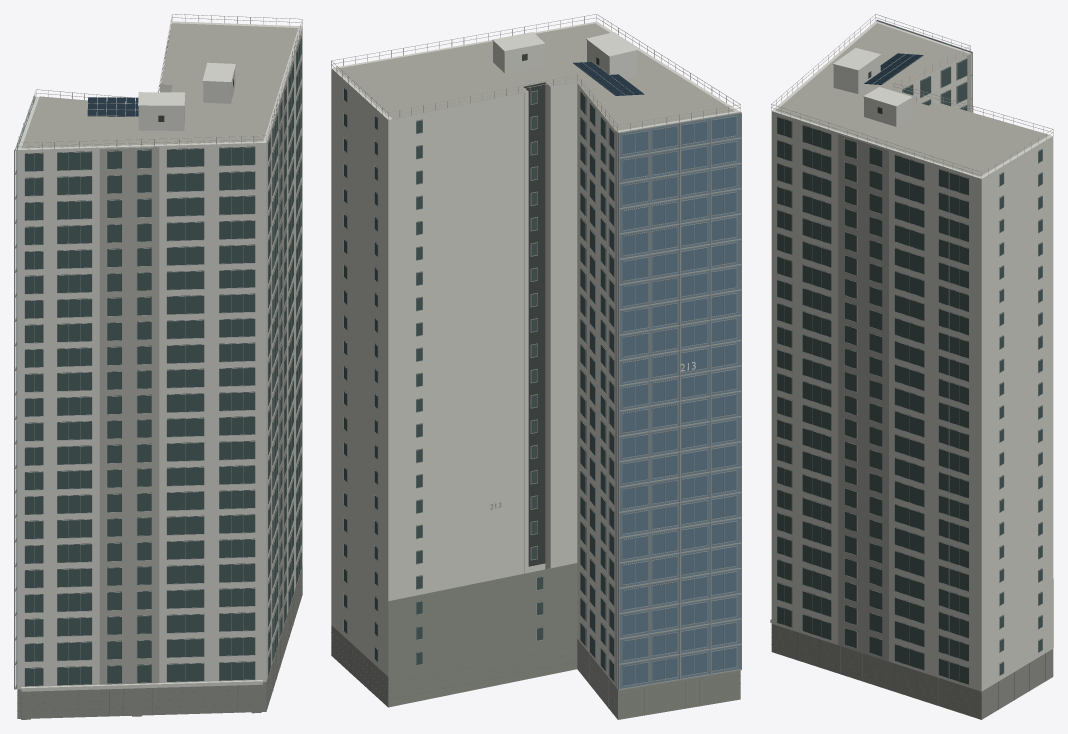
The model's file is bespoke-maple-xi-213-corrected.glb.
3 views of the same model, side by side, from view 1: azimuth 30°, elevation 25°; view 2: azimuth 150°, elevation 25°; view 3: azimuth 270°, elevation 25° (orthographic). The views are drawn at different scales.
Parts seen in each view (by area): view 1: e1_glass, 213_individual_L_body_with_core_recess, e0_window_frames, e0_pale_warm_infill, 213_exposed_roof_surface, 213_obscured_ground_storey_conservative_mass, e0_recesses, 213_low_perimeter_rails, 213_SW_visible_PV_modules, e0_ground_stone_joints, 213_NW_bluegray_numbered_end; view 2: 213_individual_L_body_with_core_recess, e0_glass, e0_window_frames, 213_obscured_ground_storey_conservative_mass, 213_NW_bluegray_numbered_end, 213_exposed_roof_surface, e1_glass, e0_recesses, 213_low_perimeter_rails, e0_pale_warm_infill, 213_SW_visible_PV_modules, e0_ground_stone_joints; view 3: 213_individual_L_body_with_core_recess, e1_glass, e0_pale_warm_infill, e0_window_frames, 213_exposed_roof_surface, 213_obscured_ground_storey_conservative_mass, e0_recesses, 213_low_perimeter_rails, 213_SW_visible_PV_modules, e0_ground_stone_joints.
Part boxes in pixels (<box>): e1_glass: <box>25,38,301,686</box>; 213_individual_L_body_with_core_recess: <box>17,21,302,691</box>; e0_window_frames: <box>14,36,301,689</box>; e0_pale_warm_infill: <box>17,79,286,688</box>; 213_exposed_roof_surface: <box>21,23,298,148</box>; 213_obscured_ground_storey_conservative_mass: <box>17,566,302,719</box>; e0_recesses: <box>25,36,301,682</box>; 213_low_perimeter_rails: <box>17,14,302,149</box>; 213_SW_visible_PV_modules: <box>87,97,138,116</box>; e0_ground_stone_joints: <box>17,573,302,716</box>; 213_NW_bluegray_numbered_end: <box>16,96,35,689</box>; 213_individual_L_body_with_core_recess: <box>331,21,740,688</box>; e0_glass: <box>623,116,736,685</box>; e0_window_frames: <box>343,87,741,690</box>; 213_obscured_ground_storey_conservative_mass: <box>331,563,740,719</box>; 213_NW_bluegray_numbered_end: <box>618,112,740,689</box>; 213_exposed_roof_surface: <box>338,23,734,130</box>; e1_glass: <box>344,88,613,681</box>; e0_recesses: <box>344,53,677,682</box>; 213_low_perimeter_rails: <box>331,14,740,131</box>; e0_pale_warm_infill: <box>615,131,617,688</box>; 213_SW_visible_PV_modules: <box>573,62,644,95</box>; e0_ground_stone_joints: <box>331,632,740,715</box>; 213_individual_L_body_with_core_recess: <box>770,21,1053,691</box>; e1_glass: <box>777,59,1042,684</box>; e0_pale_warm_infill: <box>838,54,971,661</box>; e0_window_frames: <box>777,19,1042,685</box>; 213_exposed_roof_surface: <box>776,23,1048,176</box>; 213_obscured_ground_storey_conservative_mass: <box>771,579,1053,719</box>; e0_recesses: <box>777,58,1042,670</box>; 213_low_perimeter_rails: <box>771,14,1053,178</box>; 213_SW_visible_PV_modules: <box>864,53,923,84</box>; e0_ground_stone_joints: <box>771,632,1052,712</box>.
Bounding box in the file's own units: 47.04 × 77.84 × 35.35.
